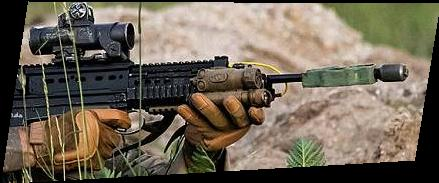gun: (1, 1, 439, 183)
